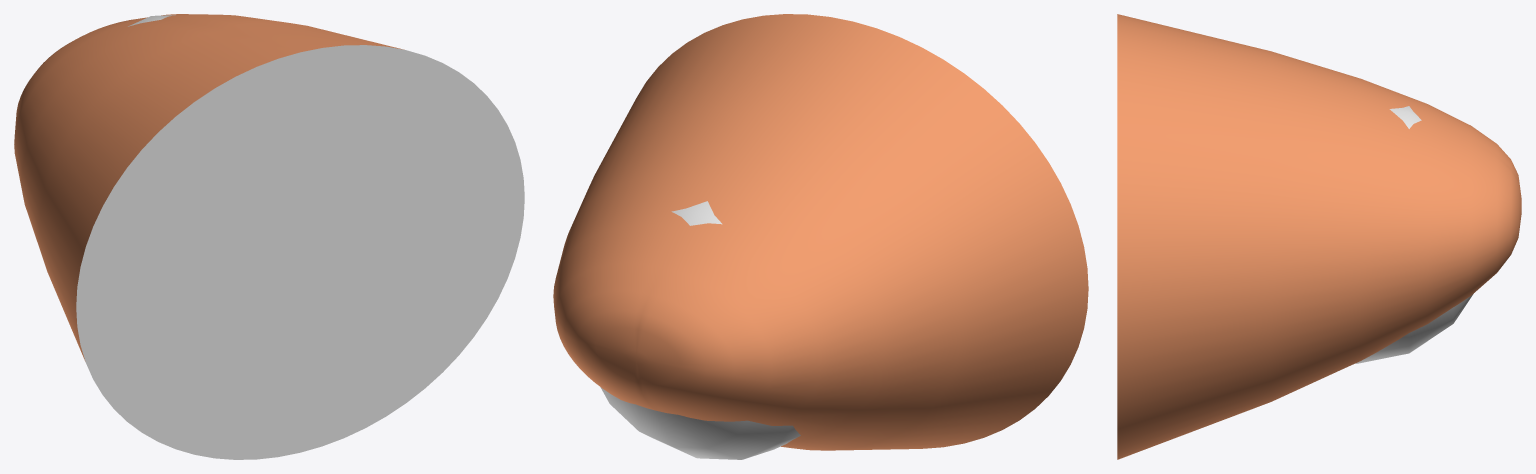
Rendered from laser_turret.fbx.
3 views of the same model, side by side, from view 1: azimuth 30°, elevation 25°; view 2: azimuth 150°, elevation 25°; view 3: azimuth 270°, elevation 25° (orthographic). The views are drawn at different scales.
Parts seen in each view (by area): view 1: laser_turret; view 2: laser_turret, laser_turret_shape; view 3: laser_turret, laser_turret_shape.
Part boxes in pixels (box(x1,y1,x2,y2)): laser_turret: box(14, 14, 524, 459); laser_turret: box(553, 14, 1088, 450); laser_turret_shape: box(600, 201, 800, 459); laser_turret: box(1117, 14, 1521, 459); laser_turret_shape: box(1355, 106, 1473, 363).
Size of what is drawn, in the model's own units: 1.63 by 1.39 by 1.3.
